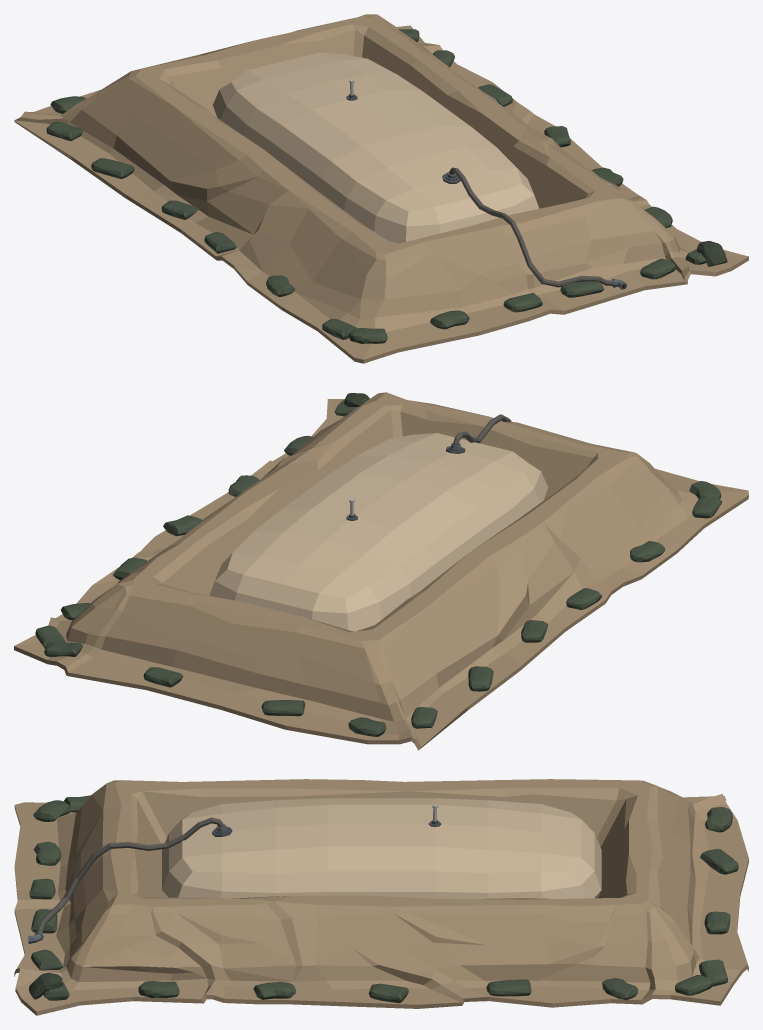
The model's file is SM_Prop_Fuel_Bladder_01.fbx.
3 views of the same model, one above another, from view 1: azimuth 30°, elevation 25°; view 2: azimuth 150°, elevation 25°; view 3: azimuth 270°, elevation 25° (orthographic). The views are drawn at different scales.
Visible parts, largest first — view 1: SM_Prop_Fuel_Bladder_01; view 2: SM_Prop_Fuel_Bladder_01; view 3: SM_Prop_Fuel_Bladder_01.
Part boxes in pixels (x1=…): SM_Prop_Fuel_Bladder_01: x1=14, y1=14, x2=748, y2=363; SM_Prop_Fuel_Bladder_01: x1=14, y1=392, x2=748, y2=750; SM_Prop_Fuel_Bladder_01: x1=14, y1=779, x2=748, y2=1015.
Size of the model in its own units: 904 by 198 by 1307.
